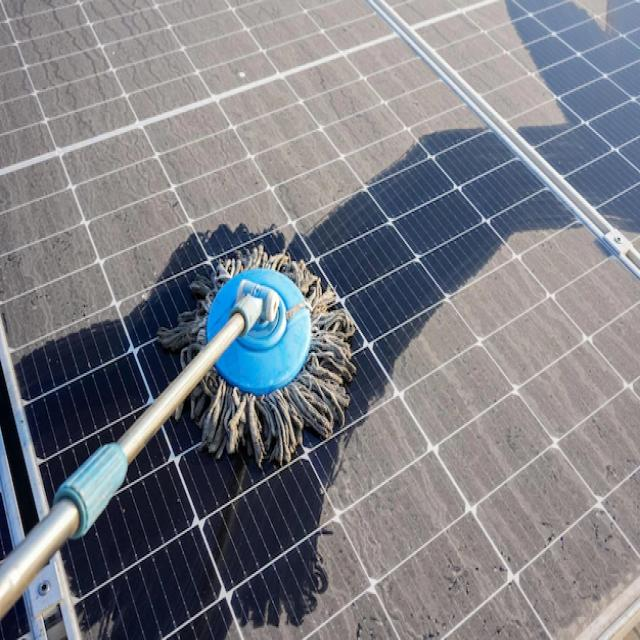dust-solar-panel: (0, 0, 567, 370), (223, 228, 640, 640)
